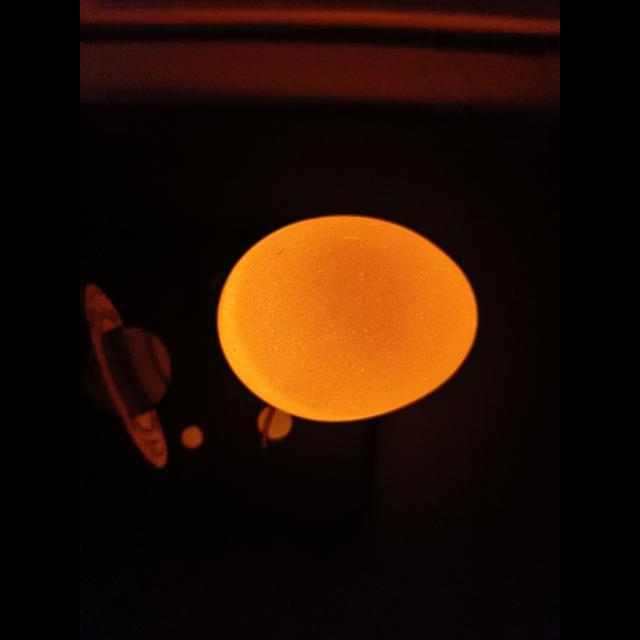AA - Premium: (218, 215, 478, 421)
